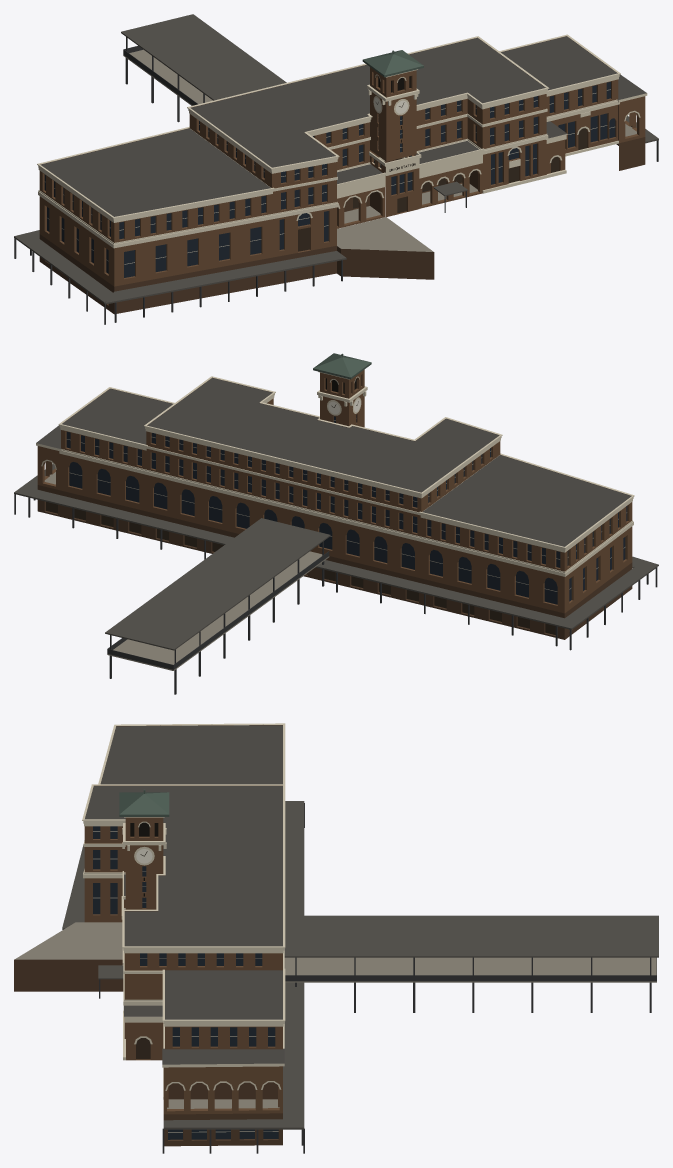
Rendered from union-station-1921.glb.
3 views of the same model, one above another, from view 1: azimuth 30°, elevation 25°; view 2: azimuth 150°, elevation 25°; view 3: azimuth 270°, elevation 25° (orthographic). The views are drawn at different scales.
Visible parts, largest first — view 1: union_brick, union_roof, union_stone, union_canopy, union_brickdk, union_glass, union_paving, union_steel, union_door, union_copper, union_sash; view 2: union_brick, union_roof, union_canopy, union_stone, union_glass, union_brickdk, union_paving, union_steel, union_door, union_copper, union_sash; view 3: union_roof, union_canopy, union_brick, union_paving, union_stone, union_brickdk, union_steel, union_glass, union_copper.
Boxes of the visible parts, left/top/right/bottom form: union_brick: left=39, top=36, right=645, bottom=286; union_roof: left=40, top=36, right=646, bottom=216; union_stone: left=37, top=34, right=647, bottom=248; union_canopy: left=14, top=14, right=658, bottom=304; union_brickdk: left=39, top=104, right=645, bottom=314; union_glass: left=44, top=81, right=615, bottom=277; union_paving: left=123, top=49, right=636, bottom=251; union_steel: left=14, top=37, right=658, bottom=324; union_door: left=298, top=128, right=587, bottom=251; union_copper: left=362, top=50, right=423, bottom=77; union_sash: left=45, top=89, right=614, bottom=264; union_brick: left=37, top=369, right=632, bottom=613; union_roof: left=36, top=378, right=631, bottom=546; union_canopy: left=14, top=464, right=658, bottom=650; union_stone: left=36, top=371, right=634, bottom=576; union_glass: left=66, top=415, right=627, bottom=629; union_brickdk: left=37, top=485, right=632, bottom=639; union_paving: left=44, top=472, right=329, bottom=670; union_steel: left=14, top=494, right=657, bottom=694; union_door: left=46, top=502, right=555, bottom=634; union_copper: left=313, top=353, right=371, bottom=379; union_sash: left=67, top=420, right=626, bottom=591; union_roof: left=85, top=725, right=284, bottom=1064; union_canopy: left=62, top=801, right=658, bottom=1129; union_brick: left=84, top=725, right=282, bottom=1114; union_paving: left=14, top=922, right=656, bottom=1108; union_stone: left=82, top=723, right=285, bottom=1099; union_brickdk: left=14, top=959, right=282, bottom=1146; union_steel: left=99, top=803, right=656, bottom=1153; union_glass: left=93, top=826, right=278, bottom=1139; union_copper: left=119, top=792, right=169, bottom=816.
Bounding box in the file's own units: 121 × 36.35 × 101.
